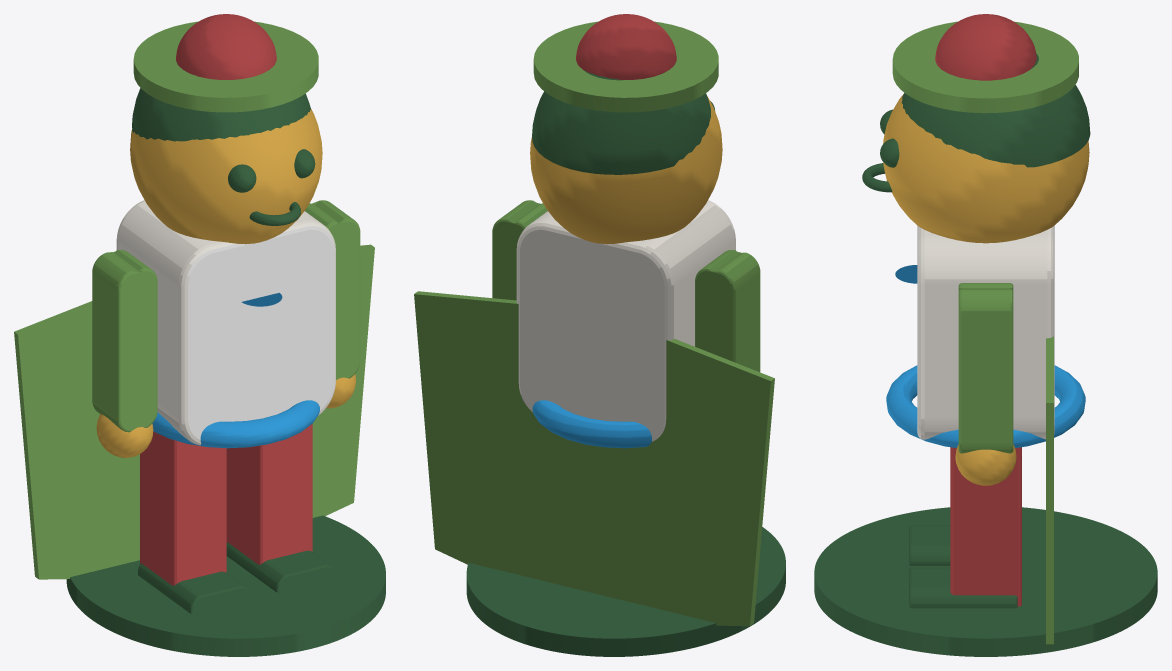
Rendered from 0621_地貌图鉴_女王头.glb.
The picture shows the model from 3 angles, left to right: view 1: azimuth 30°, elevation 25°; view 2: azimuth 150°, elevation 25°; view 3: azimuth 270°, elevation 25°; orthographic projection.
Parts seen in each view (by area): view 1: card_0621; view 2: card_0621; view 3: card_0621.
Part boxes in pixels (x1,y1,x2,y2): card_0621: (14, 14, 385, 656); card_0621: (414, 14, 785, 656); card_0621: (814, 14, 1157, 656).
Size of the model in its own units: 0.6446 by 1 by 0.5328.
